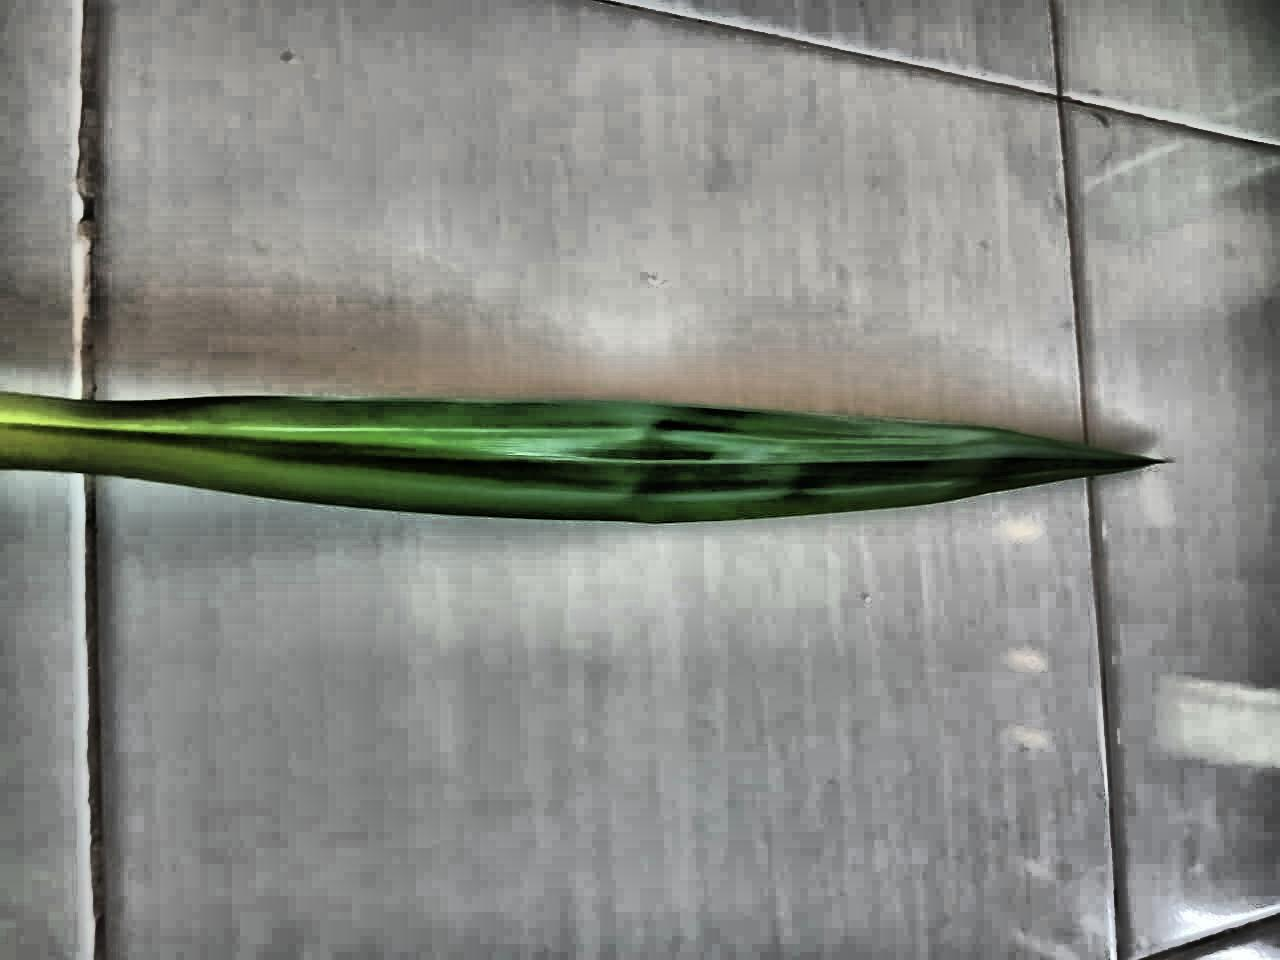daun pandan: (0, 392, 1162, 523)
